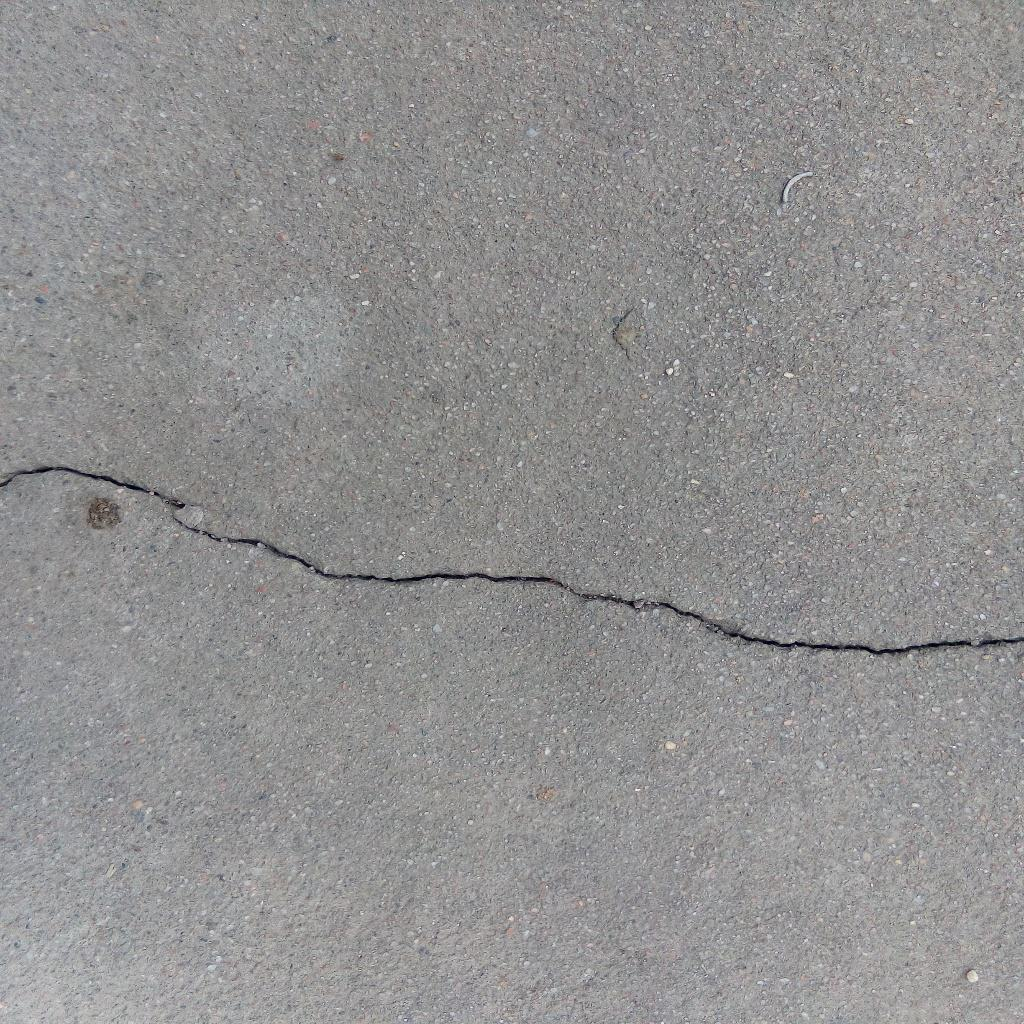Crack: (1, 464, 1024, 658)
